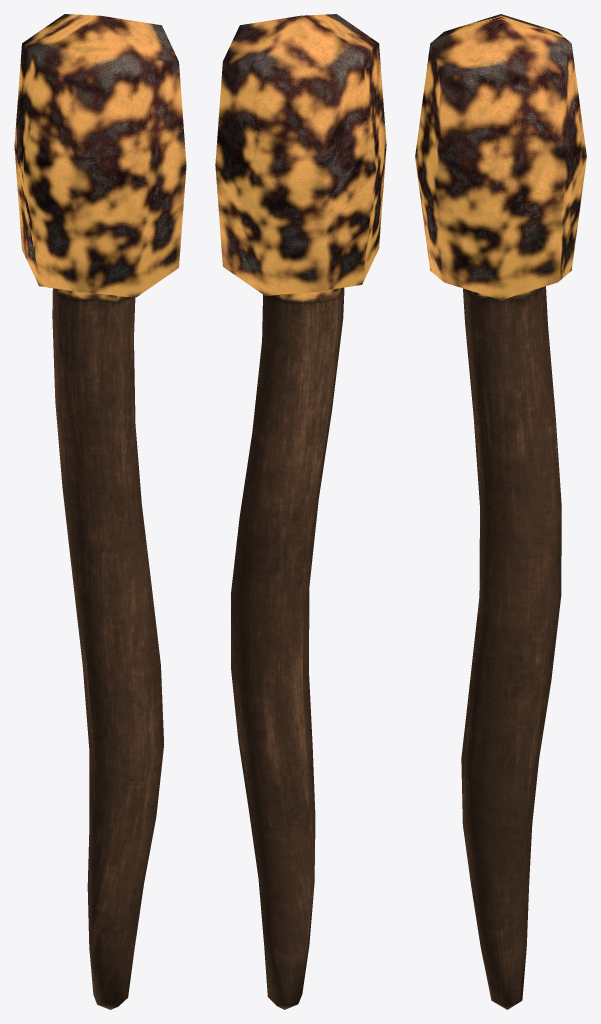
The model's file is Torch_low.fbx.
3 renders of one model, left to right at view 1: azimuth 30°, elevation 25°; view 2: azimuth 150°, elevation 25°; view 3: azimuth 270°, elevation 25°, orthographic.
Visible parts, largest first — view 1: Wood, oiled scrap; view 2: Wood, oiled scrap; view 3: Wood, oiled scrap.
Boxes of the visible parts, bbox=[...] form: Wood: bbox=[52, 288, 163, 1009]; oiled scrap: bbox=[14, 14, 186, 297]; Wood: bbox=[231, 287, 344, 1009]; oiled scrap: bbox=[215, 14, 386, 295]; Wood: bbox=[461, 286, 561, 1009]; oiled scrap: bbox=[415, 14, 586, 299].
Bounding box in the file's own units: 11.52 × 73.76 × 11.67.
1 material, 1 textured.
